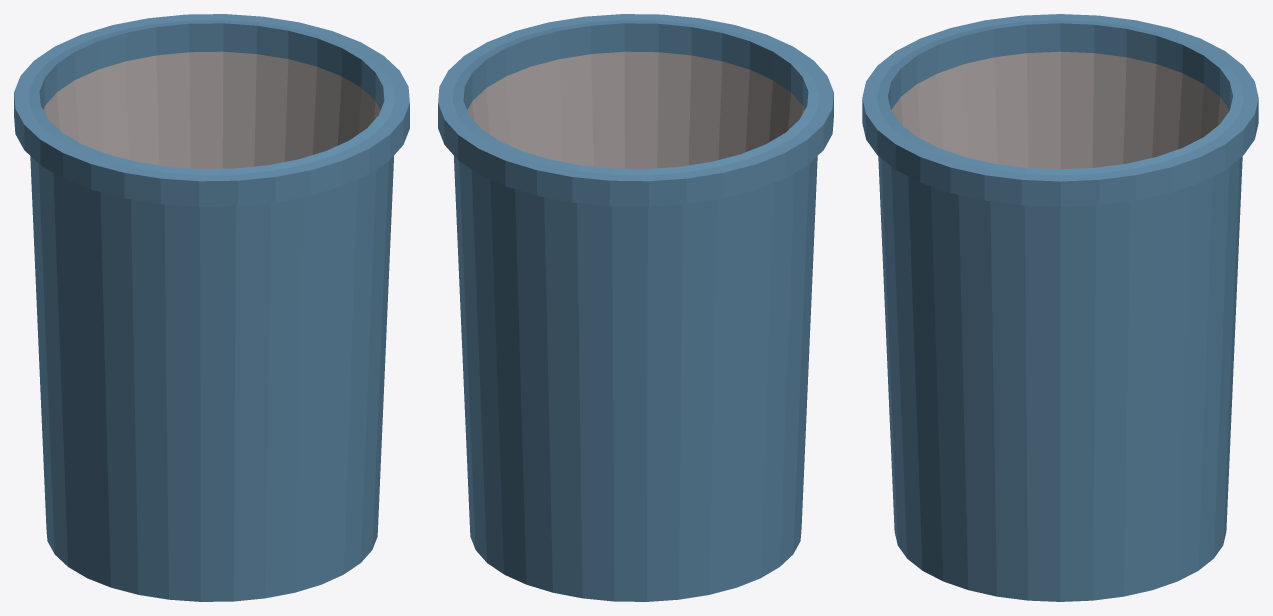
The model's file is GarbageBin.fbx.
3 renders of one model, left to right at view 1: azimuth 30°, elevation 25°; view 2: azimuth 150°, elevation 25°; view 3: azimuth 270°, elevation 25°, orthographic.
Parts seen in each view (by area): view 1: GarbageBin; view 2: GarbageBin; view 3: GarbageBin.
Part boxes in pixels (box(x1,y1,x2,y2)): GarbageBin: box(14, 14, 409, 601); GarbageBin: box(438, 14, 833, 601); GarbageBin: box(862, 14, 1258, 601).
Size of the model in its own units: 141 by 171 by 141.
